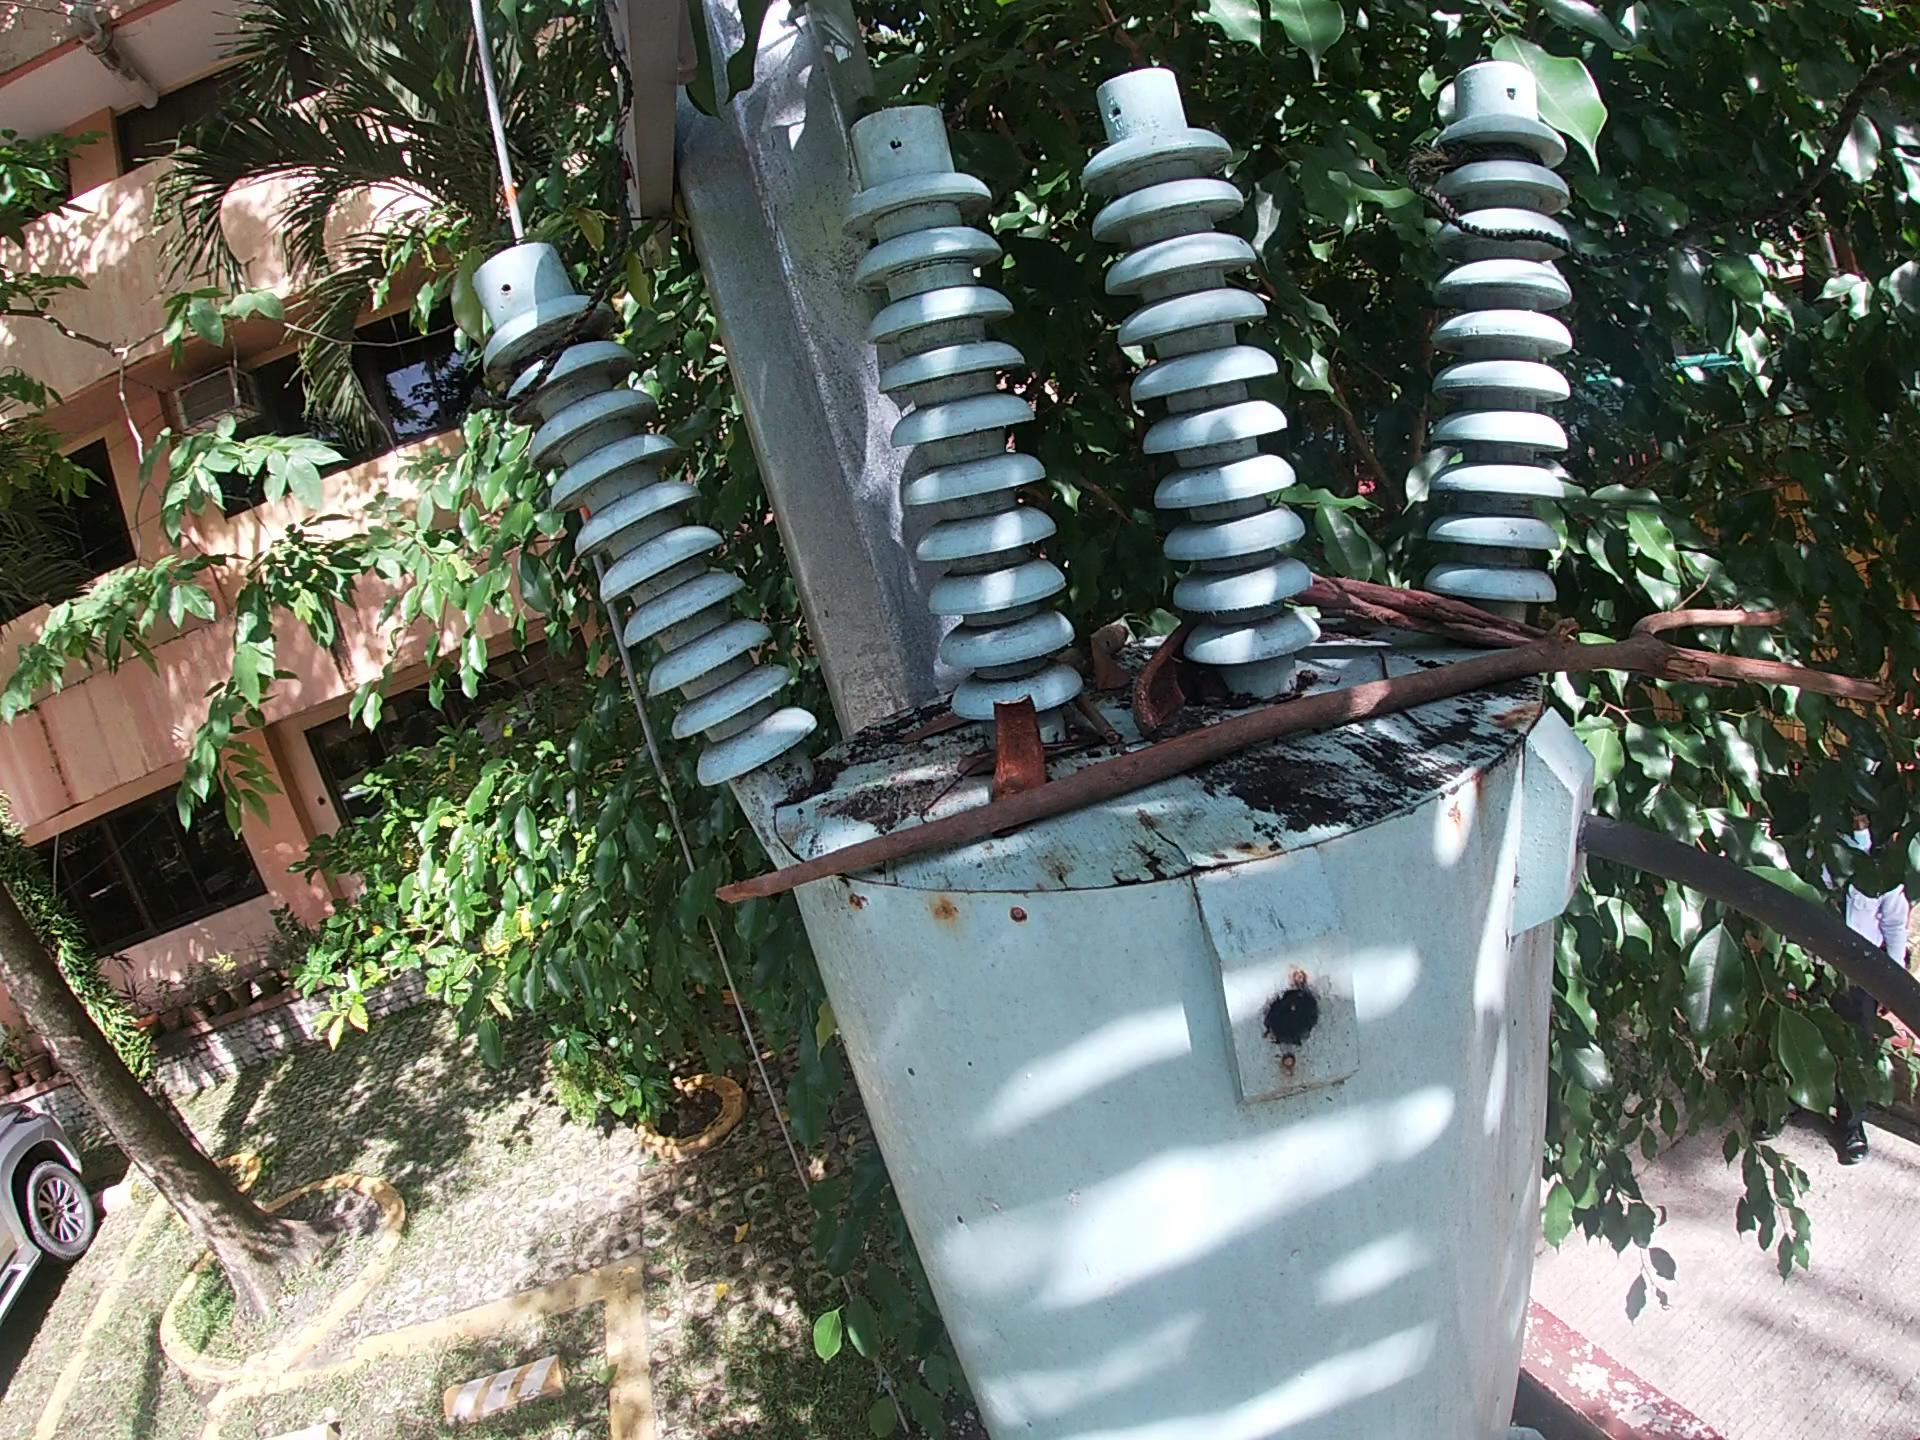leaf: (1082, 640, 1123, 705), (906, 709, 980, 740)
mahogany fruit: (1123, 613, 1197, 749), (986, 690, 1054, 799)
tree branch: (701, 597, 1920, 936), (1314, 576, 1584, 653), (1079, 604, 1144, 681), (1070, 694, 1138, 749), (918, 759, 974, 823), (1400, 718, 1468, 753), (1364, 646, 1395, 681)
